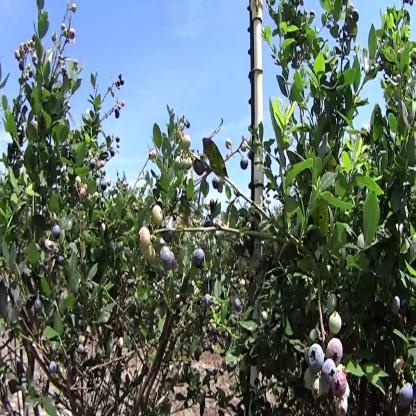intermediate: (331, 368, 353, 406), (326, 338, 349, 369)
mature: (190, 241, 212, 276), (304, 342, 327, 374), (160, 244, 178, 281), (397, 381, 416, 416), (238, 155, 251, 174), (51, 222, 63, 241)
young: (137, 229, 160, 273), (303, 370, 325, 404), (326, 311, 346, 342), (151, 206, 170, 236), (172, 157, 195, 177), (179, 134, 196, 156)
